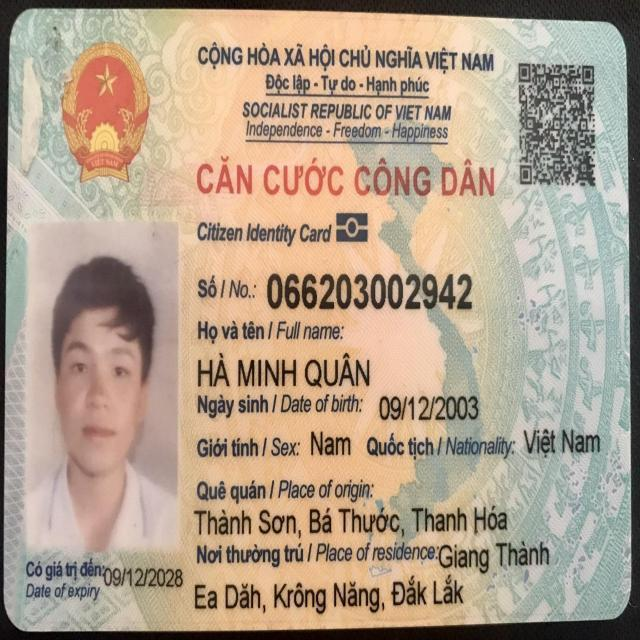current_place: (192, 571, 466, 617), (438, 538, 551, 576)
dob: (376, 391, 481, 425)
expire_date: (102, 564, 185, 591)
gender: (308, 427, 353, 459)
id: (264, 268, 475, 316)
name: (195, 349, 372, 391)
nationality: (521, 426, 602, 460)
origin_place: (191, 503, 509, 540)
qr: (512, 50, 604, 202)
